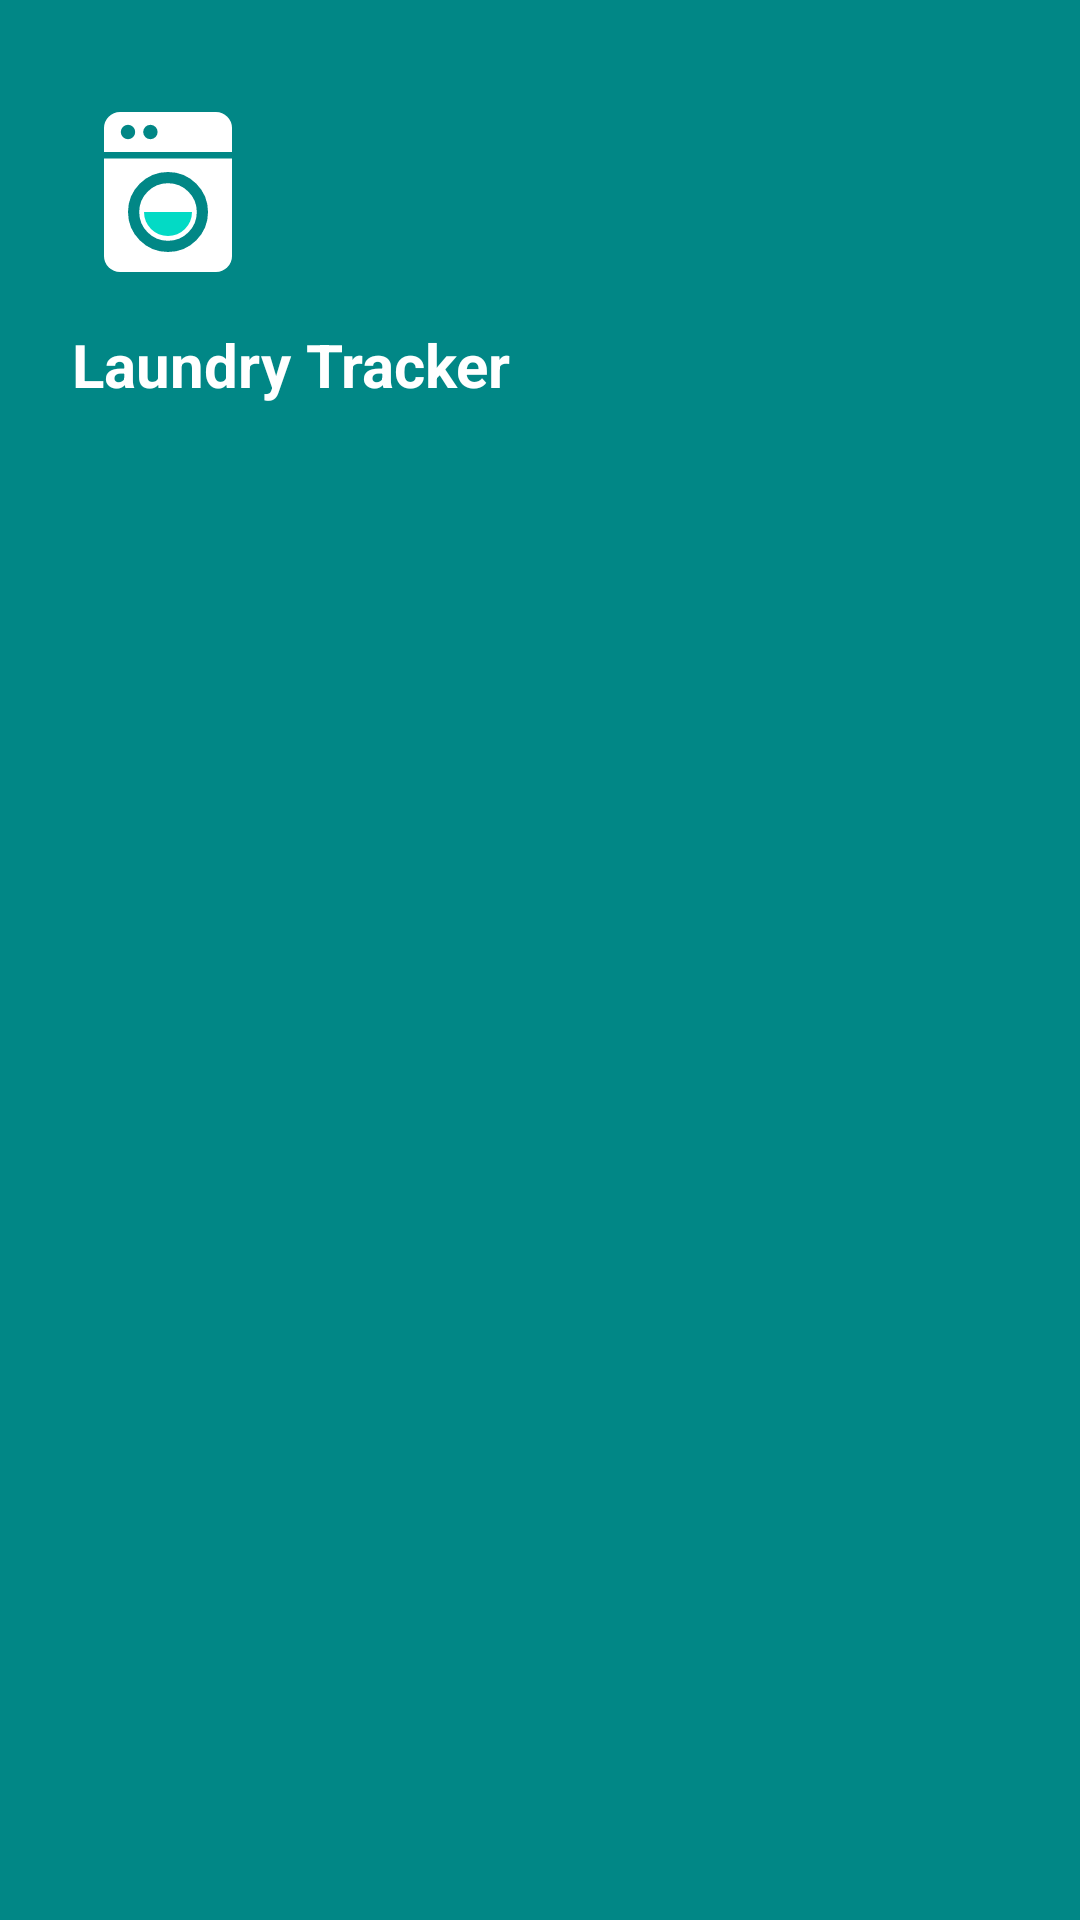

Screen size 1080×1920. Icon name, then its box in pixels as (x1, y1, x2, y2):
washing machine: (104, 112, 232, 272)
